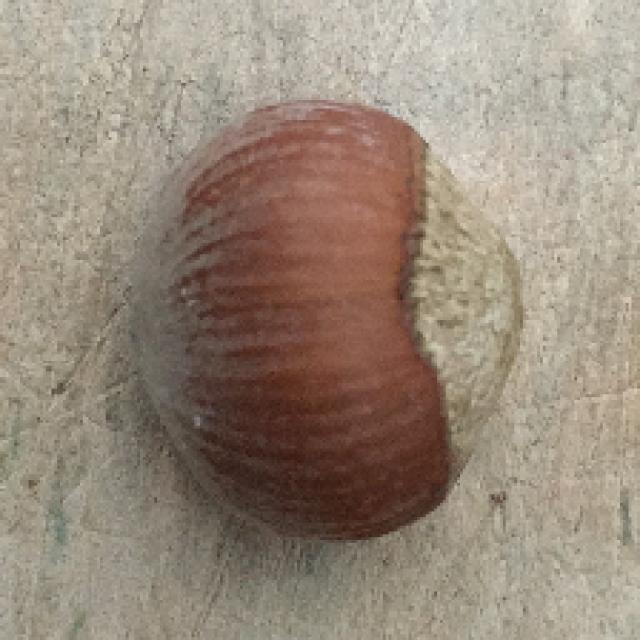qualityHazelnut: (144, 93, 526, 542)
